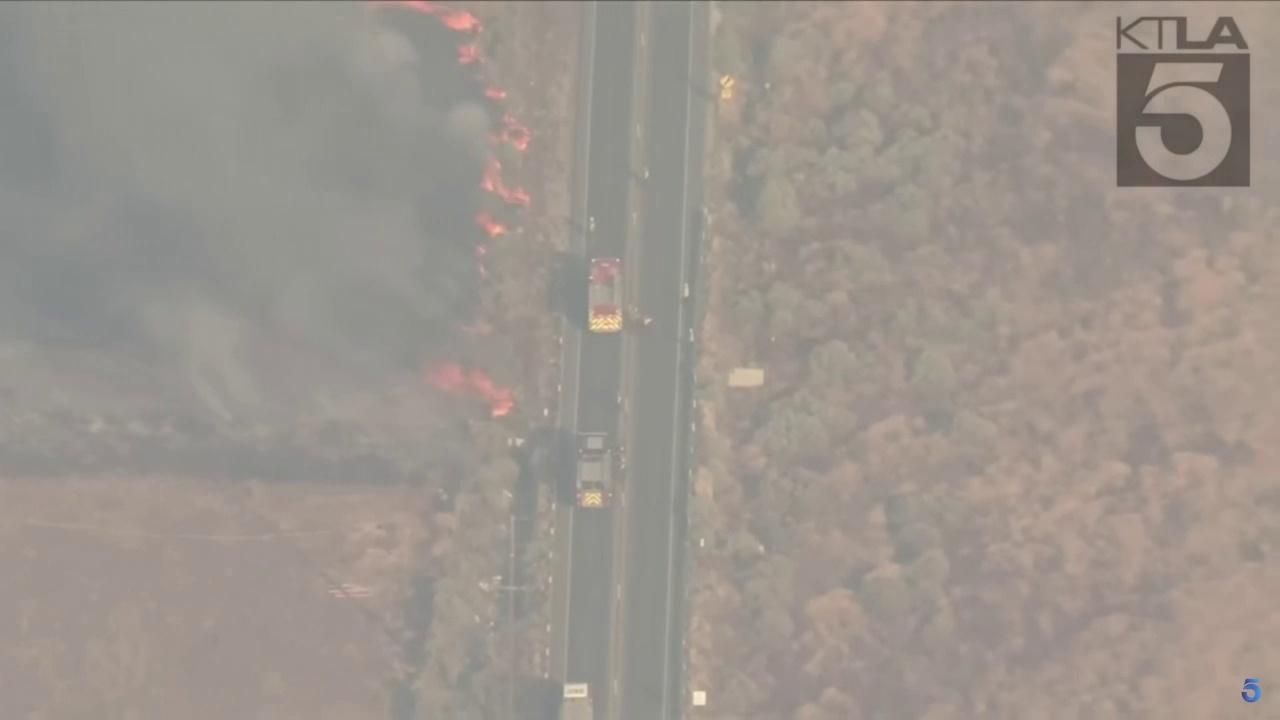fire: (420, 356, 518, 418), (368, 0, 490, 33), (478, 156, 534, 205), (487, 114, 531, 152), (472, 211, 508, 240), (453, 43, 492, 64), (480, 87, 512, 101), (474, 245, 489, 257)
smoke: (0, 0, 507, 462)
